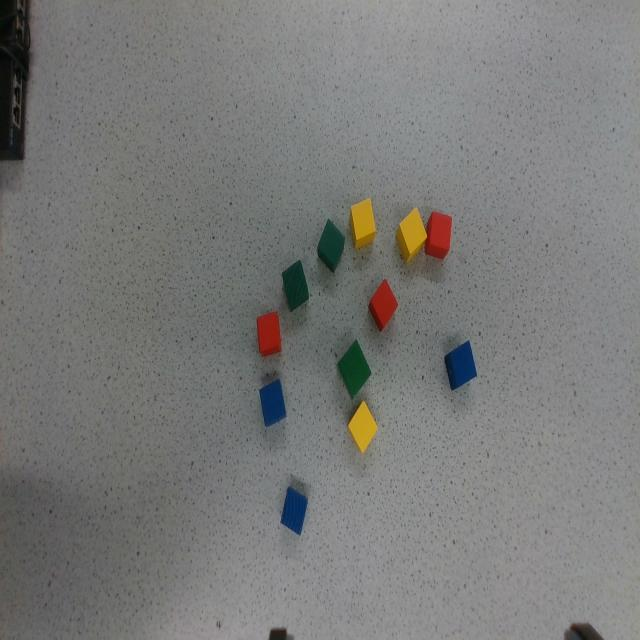blue_cube: (441, 340, 479, 390), (279, 487, 309, 535), (257, 380, 287, 427)
green_cube: (330, 340, 376, 398), (308, 220, 353, 272), (278, 260, 312, 311)
red_cube: (360, 278, 406, 332), (424, 211, 452, 259), (254, 312, 282, 357)
yellow_cube: (340, 401, 386, 453), (389, 208, 432, 263), (346, 198, 379, 248)
